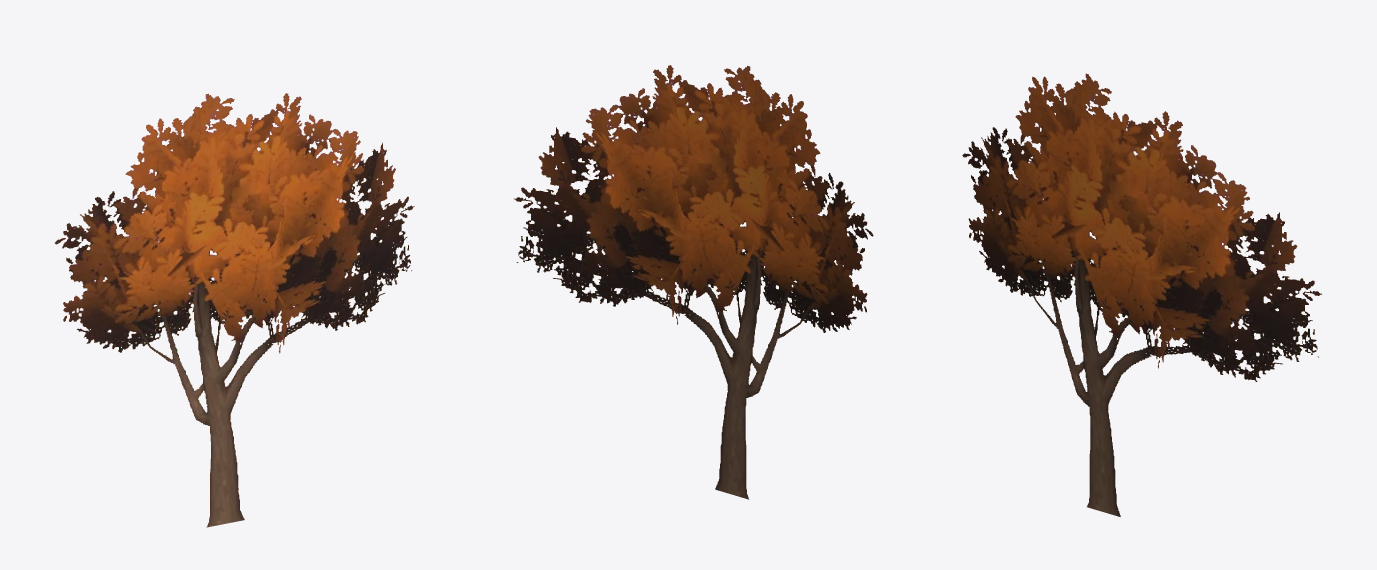
The picture shows the model from 3 angles, left to right: view 1: azimuth 30°, elevation 25°; view 2: azimuth 150°, elevation 25°; view 3: azimuth 330°, elevation 25°; orthographic projection.
Visible parts, largest first — view 1: body0_model0_lod0_mesh0; view 2: body0_model0_lod0_mesh0; view 3: body0_model0_lod0_mesh0.
Boxes of the visible parts, x1=… form: body0_model0_lod0_mesh0: x1=55, y1=93, x2=414, y2=527; body0_model0_lod0_mesh0: x1=514, y1=65, x2=873, y2=499; body0_model0_lod0_mesh0: x1=962, y1=73, x2=1321, y2=516.
Size of the model in its own units: 29.46 by 28.56 by 2.51.
1 material, 1 textured.
